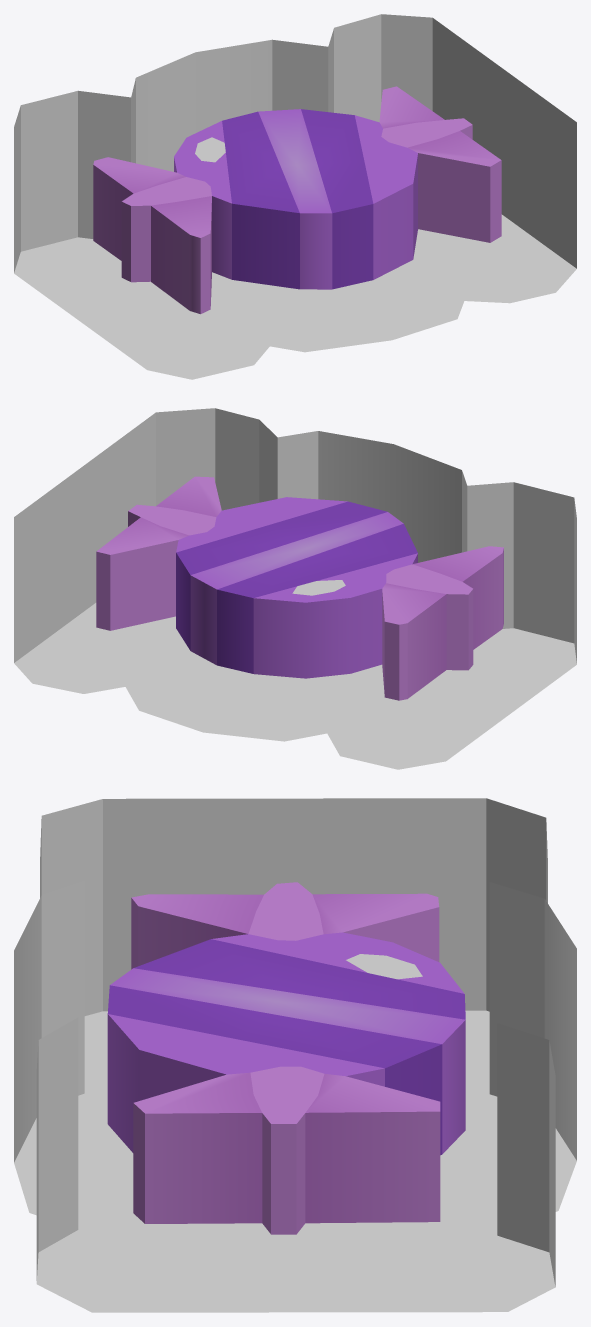
The model's file is PumpkinBucketTealCandy_5.glb.
The picture shows the model from 3 angles, top to bottom: view 1: azimuth 30°, elevation 25°; view 2: azimuth 150°, elevation 25°; view 3: azimuth 270°, elevation 25°; orthographic projection. The views are drawn at different scales.
Parts seen in each view (by area): view 1: PumpkinBucketTealCandy; view 2: PumpkinBucketTealCandy; view 3: PumpkinBucketTealCandy.
Boxes of the visible parts, x1=… form: PumpkinBucketTealCandy: x1=14, y1=14, x2=576, y2=379; PumpkinBucketTealCandy: x1=14, y1=408, x2=576, y2=769; PumpkinBucketTealCandy: x1=14, y1=798, x2=576, y2=1312.
Bounding box in the file's own units: 0.2394 × 0.0785 × 0.1885.
